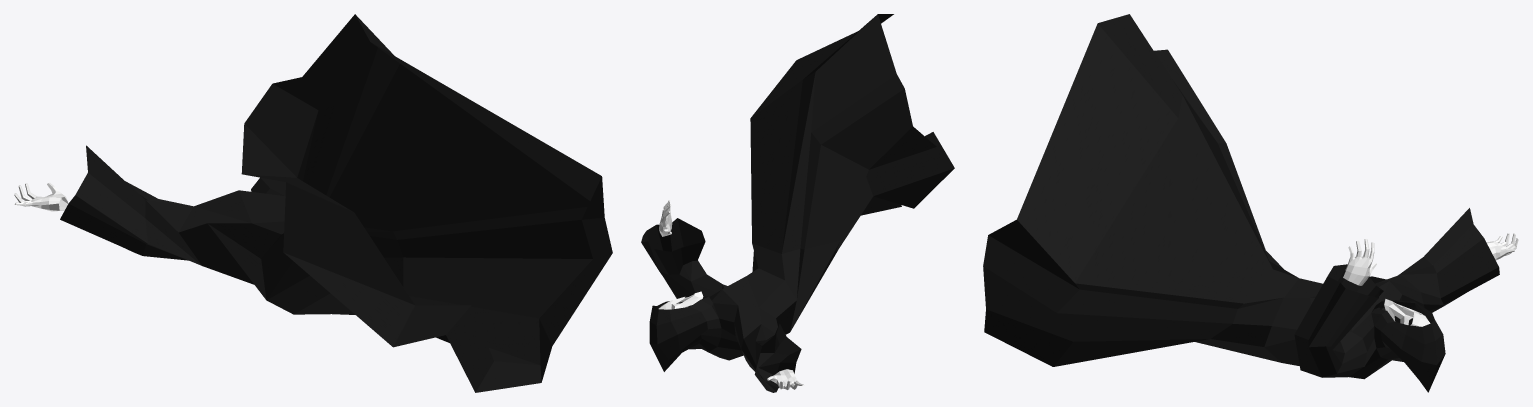
File: ReaperDead(74).obj
3 renders of one model, left to right at view 1: azimuth 30°, elevation 25°; view 2: azimuth 150°, elevation 25°; view 3: azimuth 270°, elevation 25°, orthographic. The views are drawn at different scales.
Visible parts, largest first — view 1: Plane003; view 2: Plane003; view 3: Plane003.
Boxes of the visible parts, left/top/right/bottom form: Plane003: left=14, top=14, right=612, bottom=392; Plane003: left=641, top=14, right=954, bottom=392; Plane003: left=983, top=14, right=1518, bottom=392.
Bounding box in the file's own units: 141 × 162 × 238.
